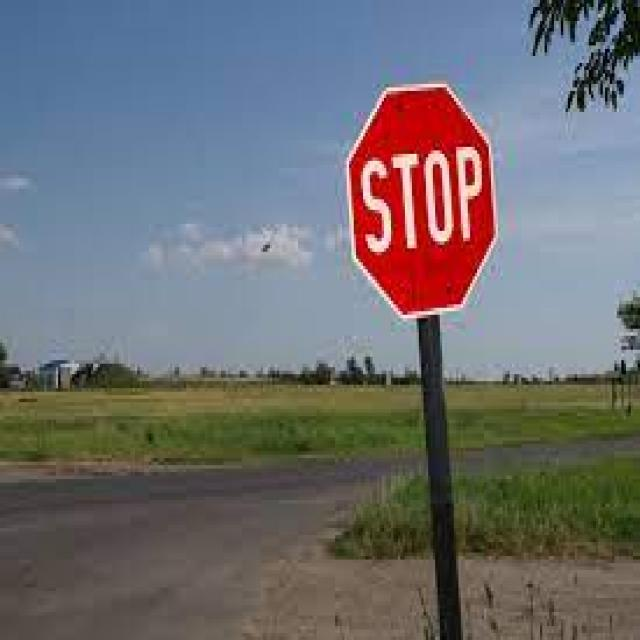stop-sign: (328, 73, 550, 306)
